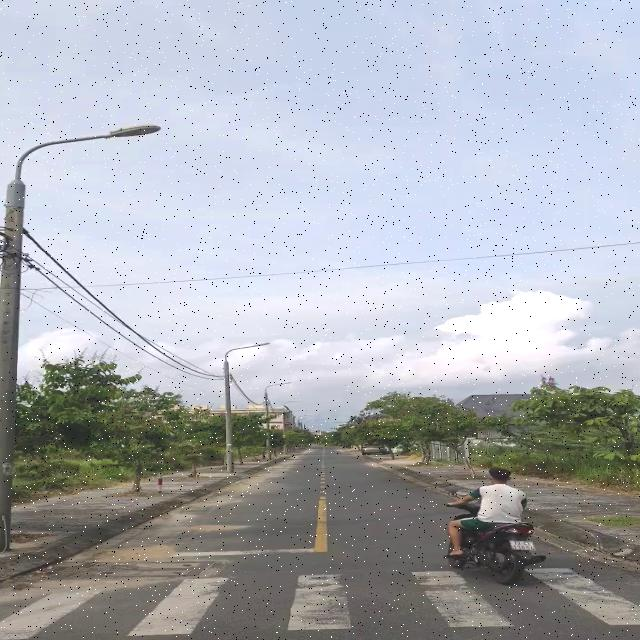no_helmet: (488, 465, 518, 490)
